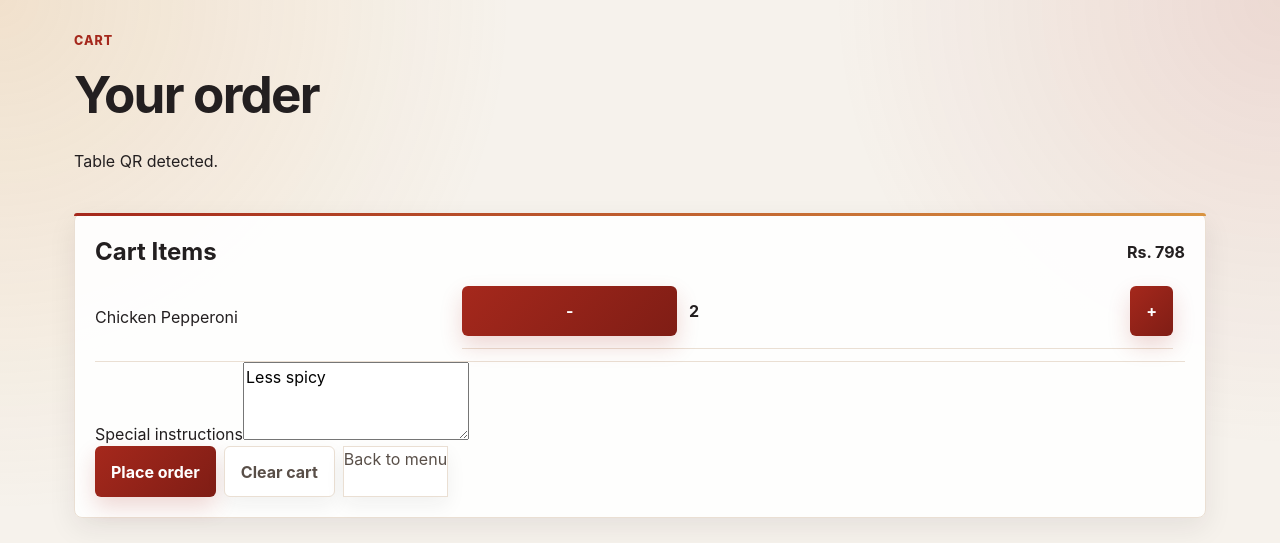
Test: PublicCartPage › clears server cart items and instructions
Check: the text "Chicken Pepperoni" is shown, box 95,307 -> 238,327
Step 1. Click the button "Clear cart" → [279, 472], box 224,446 -> 335,497
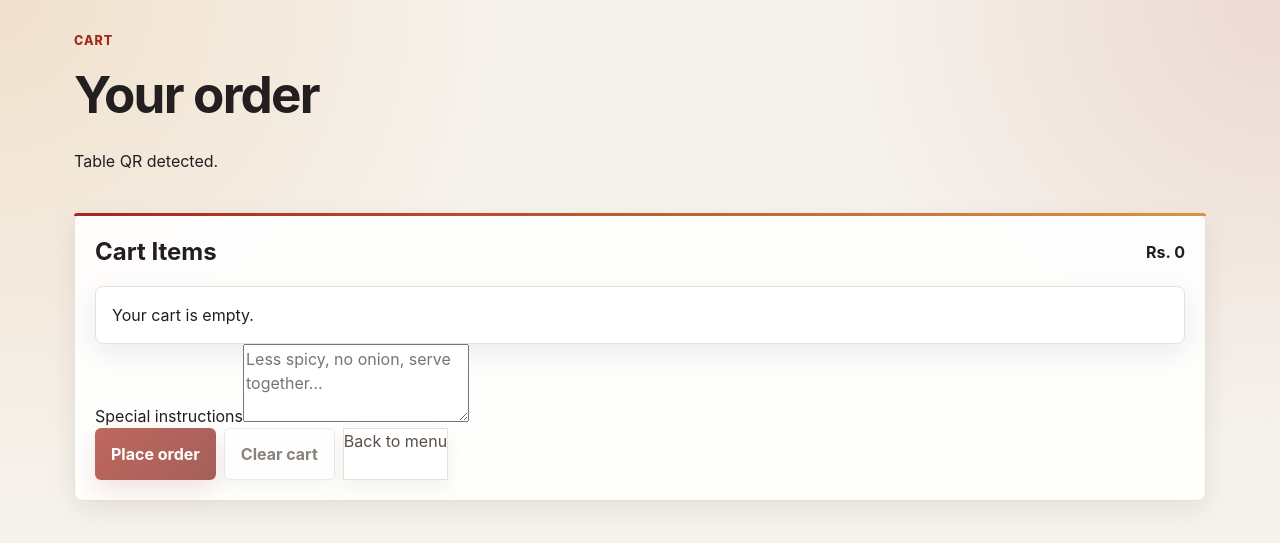
Check: the text "Your cart is empty." is shown, box 95,286 -> 1185,344
Check: the text box labelled "Special instructions" is empty, box 243,344 -> 469,422
